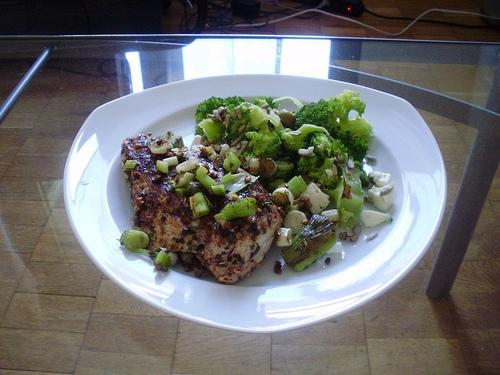broccoli: (280, 212, 336, 272), (322, 162, 370, 230), (329, 90, 374, 162), (279, 123, 330, 152), (245, 129, 283, 160), (205, 96, 246, 116), (308, 132, 332, 159), (249, 107, 279, 126), (198, 119, 222, 141), (296, 154, 322, 174), (328, 135, 349, 156), (318, 172, 338, 190), (273, 168, 294, 180), (237, 102, 254, 115)
celery: (322, 164, 364, 230), (214, 196, 256, 222), (309, 158, 337, 190), (196, 164, 217, 190), (190, 193, 211, 218), (120, 230, 149, 248), (287, 175, 308, 199), (222, 150, 242, 174), (197, 118, 224, 134), (168, 172, 196, 187), (155, 251, 171, 271), (162, 156, 179, 166), (212, 184, 226, 196), (156, 160, 168, 173), (124, 160, 138, 169)
